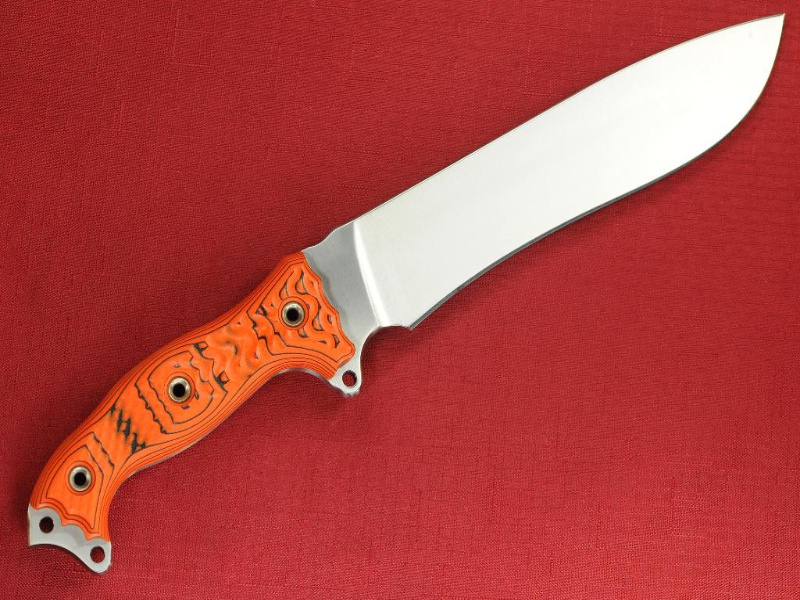knife: (25, 10, 789, 579)
